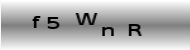5: (46, 16, 61, 30)
R: (127, 23, 143, 37)
f: (31, 15, 42, 29)
n: (100, 25, 115, 37)
w: (75, 11, 98, 25)
